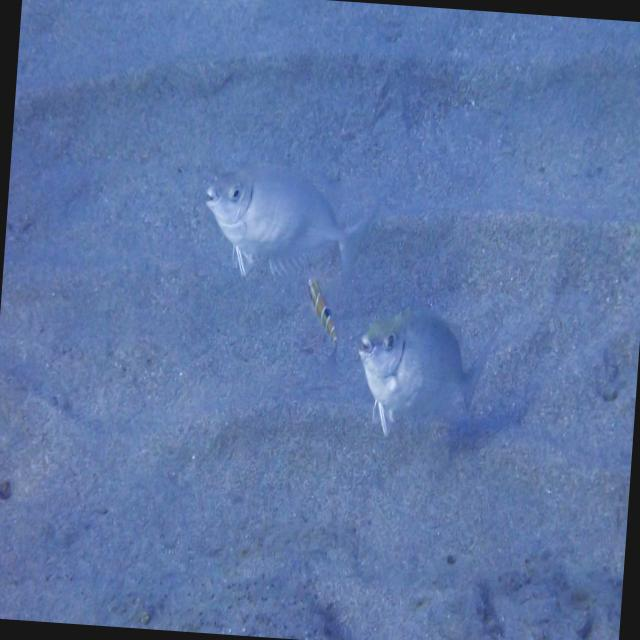Sokar Baligi: (190, 144, 390, 300), (350, 296, 498, 454)
